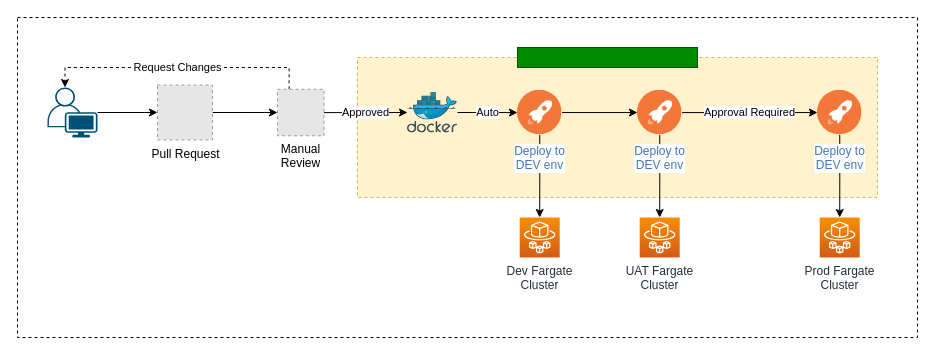
The diagram is 935 pixels wide and 355 high, and some of its shapes have lost their labels. Grey dashed boxes stand in for pictures. The centre of each missing label's shape, as x and y in pixels:
App Developer: (x=72, y=112)
Build: (x=432, y=112)
GitHub Actions/Any CI/CD Tool: (x=607, y=57)
